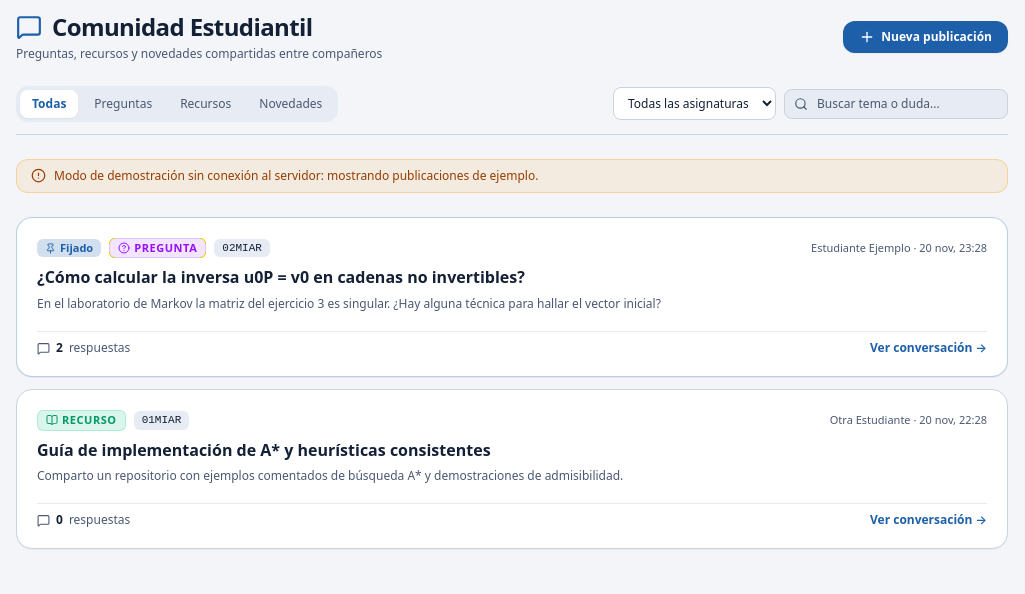
it: CommunityPage › filters feed by search query submission
The width and height of the screenshot is (1025, 594).
Expected: the heading "¿Cómo calcular la inversa u0P = v0" is shown, x1=37 y1=266 x2=525 y2=288
Type "inexistente_xyz_abc" into the field with placeholder "Buscar tema o duda..." at (896, 104), box x1=784 y1=89 x2=1008 y2=119
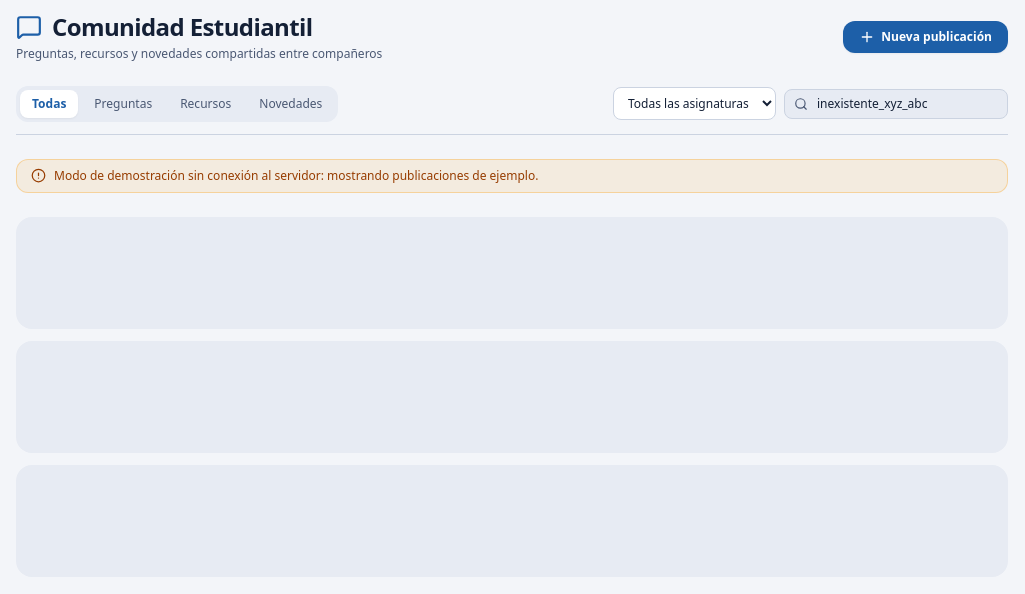
Note: Submit form
Submit the form with placeholder "Buscar tema o duda", box x1=784 y1=89 x2=1008 y2=119
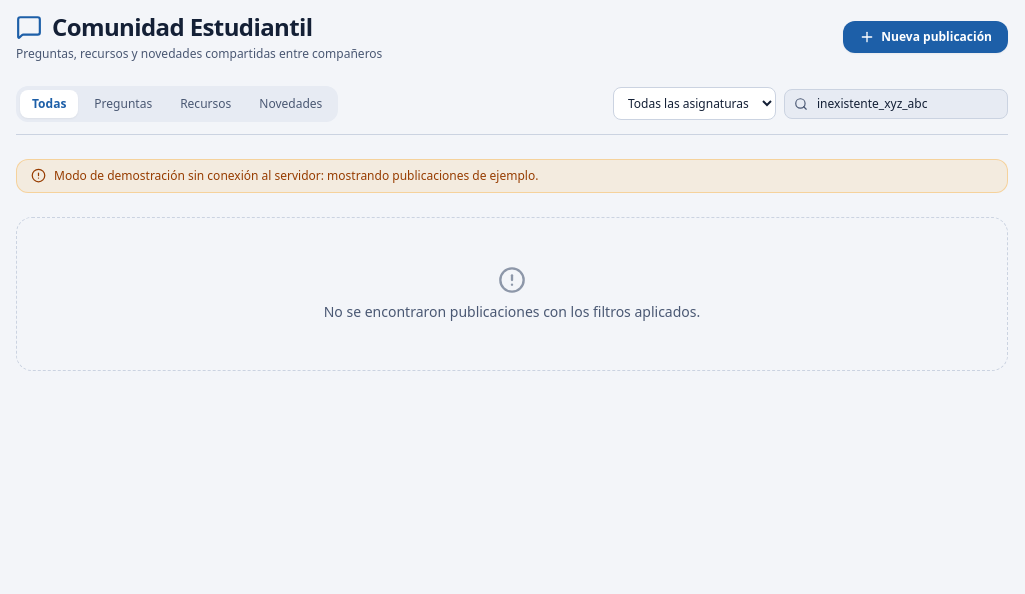
Result: the text "No se encontraron publicaciones con los filtros aplicados." is shown at x1=324 y1=302 x2=700 y2=321
